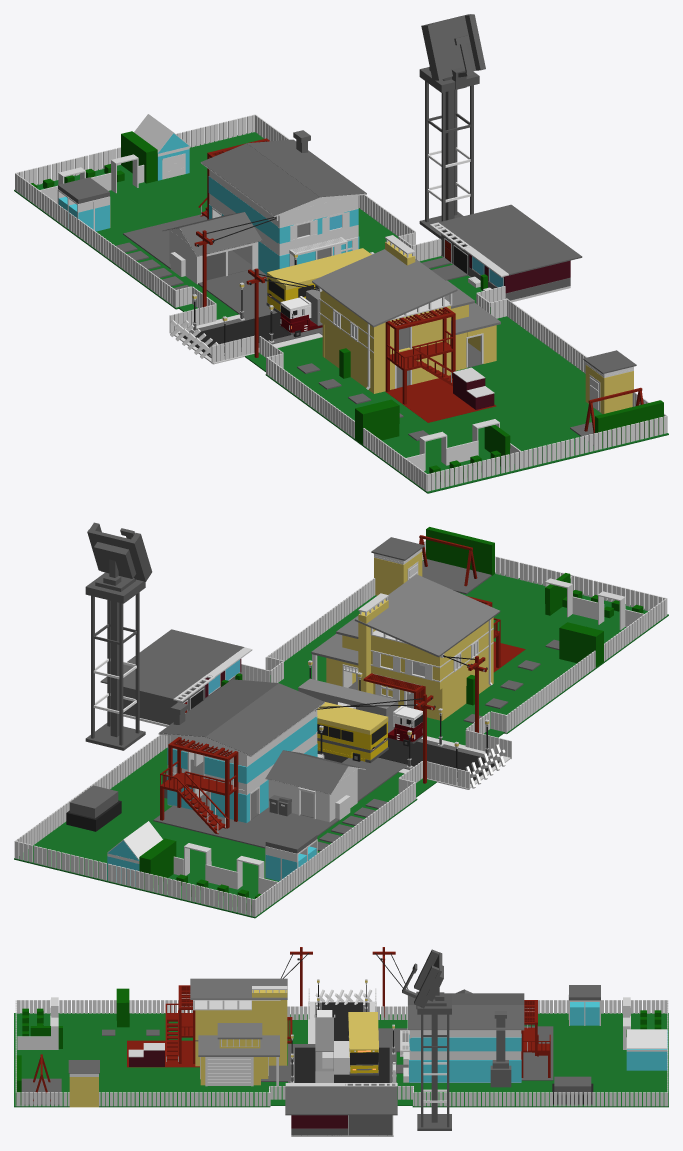
The model's file is nuketown.glb.
3 views of the same model, one above another, from view 1: azimuth 30°, elevation 25°; view 2: azimuth 150°, elevation 25°; view 3: azimuth 270°, elevation 25° (orthographic). The views are drawn at different scales.
Parts seen in each view (by area): view 1: New shape.041, New shape.042, New shape.419, New shape.027, New shape.169, New shape.171, New shape.203, New shape.638, New shape.204, New shape.040, New shape.1265, New shape.174 (+22 smaller); view 2: New shape.041, New shape.042, New shape.419, New shape.027, New shape.169, New shape.205, New shape.171, New shape.637, New shape.084, New shape.174, New shape.040, New shape.085 (+34 smaller); view 3: New shape.041, New shape.042, New shape.027, New shape.171, New shape.134, New shape.370, New shape.419, New shape.161, New shape, New shape.040, New shape.133, New shape.351 (+41 smaller).
Part boxes in pixels (box(x1,y1,x2,y2)): New shape.041: box(265, 316, 668, 493); New shape.042: box(14, 132, 398, 309); New shape.419: box(312, 249, 457, 327); New shape.027: box(438, 204, 582, 275); New shape.169: box(201, 143, 319, 215); New shape.171: box(247, 139, 366, 197); New shape.203: box(385, 375, 496, 422); New shape.638: box(179, 212, 261, 256); New shape.204: box(198, 269, 277, 317); New shape.040: box(178, 259, 490, 371); New shape.1265: box(421, 14, 475, 78); New shape.174: box(183, 313, 321, 355); New shape.041: box(284, 560, 668, 733); New shape.042: box(14, 747, 417, 918); New shape.419: box(354, 574, 500, 657); New shape.027: box(100, 629, 244, 699); New shape.169: box(205, 683, 324, 755); New shape.205: box(153, 805, 339, 848); New shape.171: box(159, 679, 278, 736); New shape.637: box(265, 750, 347, 794); New shape.084: box(426, 527, 494, 575); New shape.174: box(378, 738, 498, 780); New shape.040: box(270, 675, 503, 797); New shape.085: box(559, 622, 603, 667); New shape.041: box(14, 1013, 270, 1107); New shape.042: box(412, 1013, 668, 1107); New shape.027: box(285, 1086, 397, 1115); New shape.171: box(408, 1005, 524, 1029); New shape.134: box(411, 1060, 521, 1082); New shape.370: box(195, 1010, 279, 1066); New shape.419: box(190, 978, 287, 999); New shape.161: box(409, 1030, 521, 1082); New shape: box(295, 1047, 389, 1084); New shape.040: box(270, 1014, 414, 1105); New shape.133: box(410, 1037, 521, 1051); New shape.351: box(198, 1035, 279, 1056).
Size of the model in its own units: 16.26 by 10.11 by 32.5.
